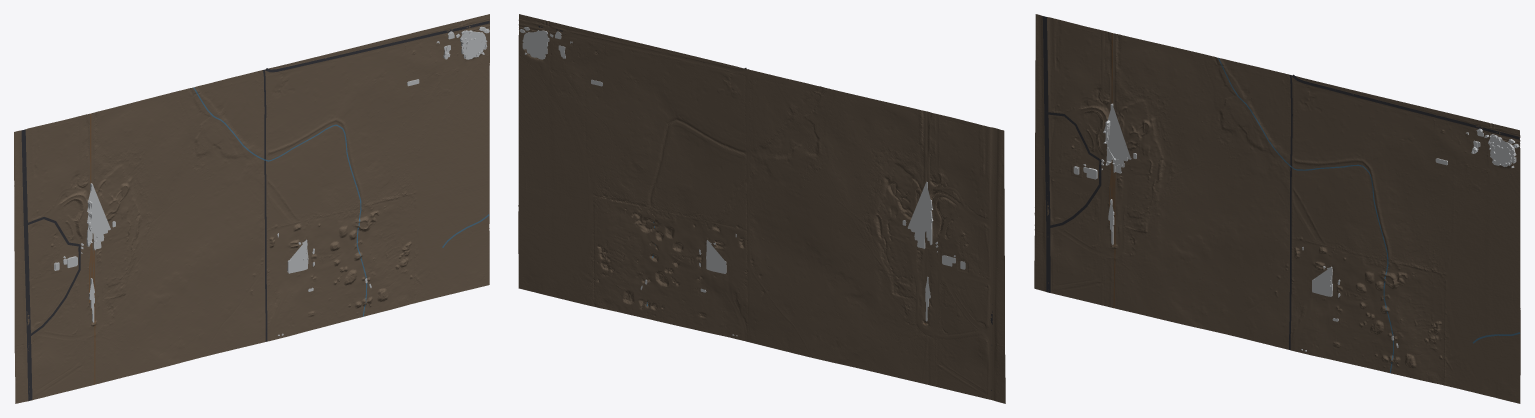
Rendered from red_hill_site.obj.
3 views of the same model, side by side, from view 1: azimuth 30°, elevation 25°; view 2: azimuth 150°, elevation 25°; view 3: azimuth 330°, elevation 25° (orthographic).
Parts seen in each view (by area): view 1: terrain, roads, structures, drainage, rail; view 2: terrain, structures; view 3: terrain, roads, structures, drainage, rail.
Boxes of the visible parts, box(x1,y1,x2,y2) form: terrain: box(14, 14, 489, 403); roads: box(21, 20, 489, 400); structures: box(54, 26, 489, 335); drainage: box(193, 87, 489, 316); rail: box(89, 113, 95, 384); terrain: box(518, 14, 1005, 403); structures: box(519, 27, 965, 336); terrain: box(1034, 14, 1520, 403); roads: box(1042, 16, 1519, 349); structures: box(1073, 103, 1519, 351); drainage: box(1218, 58, 1520, 372); rail: box(1109, 33, 1115, 307).
Size of the model in its own units: 1280 by 697 by 34.25.
